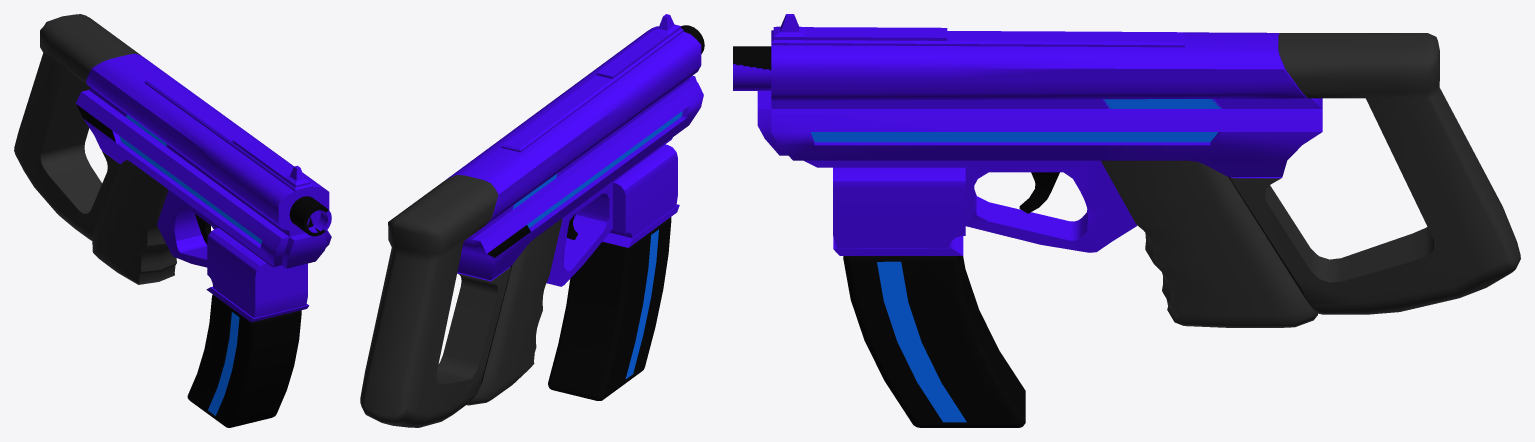
File: smg.fbx
3 views of the same model, side by side, from view 1: azimuth 30°, elevation 25°; view 2: azimuth 150°, elevation 25°; view 3: azimuth 270°, elevation 25° (orthographic). The views are drawn at different scales.
Visible parts, largest first — view 1: side1; view 2: side1; view 3: side1.
Boxes of the visible parts, <box> form: side1: <box>14,14,331,427</box>; side1: <box>360,14,704,427</box>; side1: <box>733,14,1520,427</box>.
Size of the model in its own units: 0.0357 by 0.1767 by 0.317.
1 material, 1 textured.
